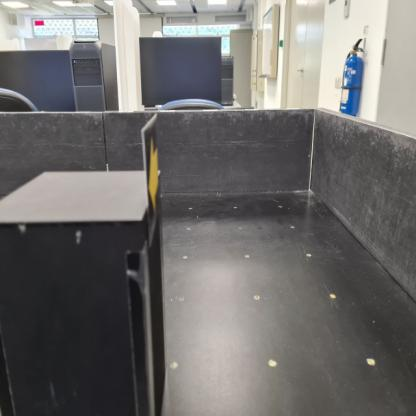right: (142, 112, 163, 247)
